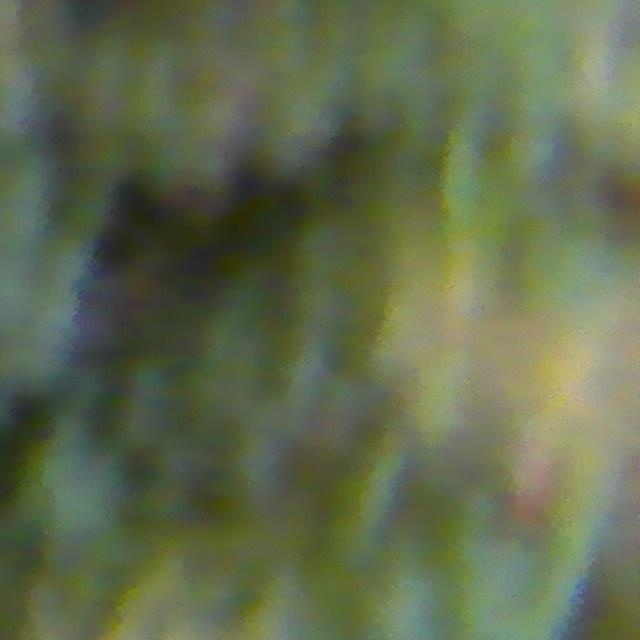SeaGrape: (14, 434, 126, 549)
